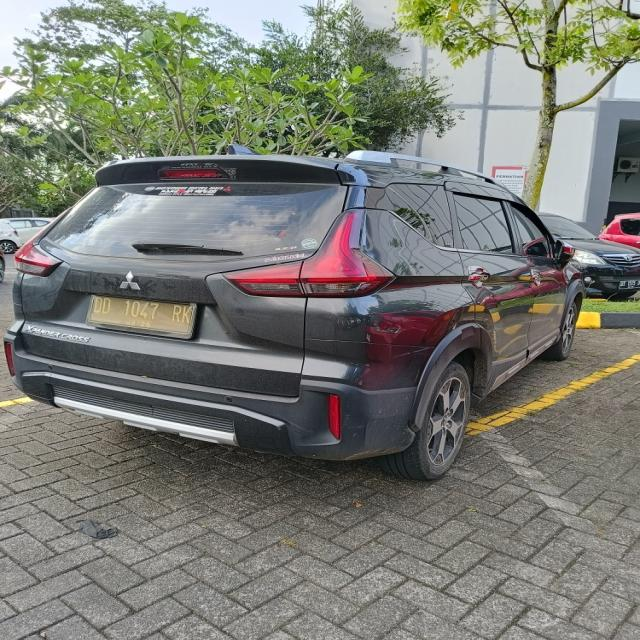plates: (79, 291, 200, 336)
